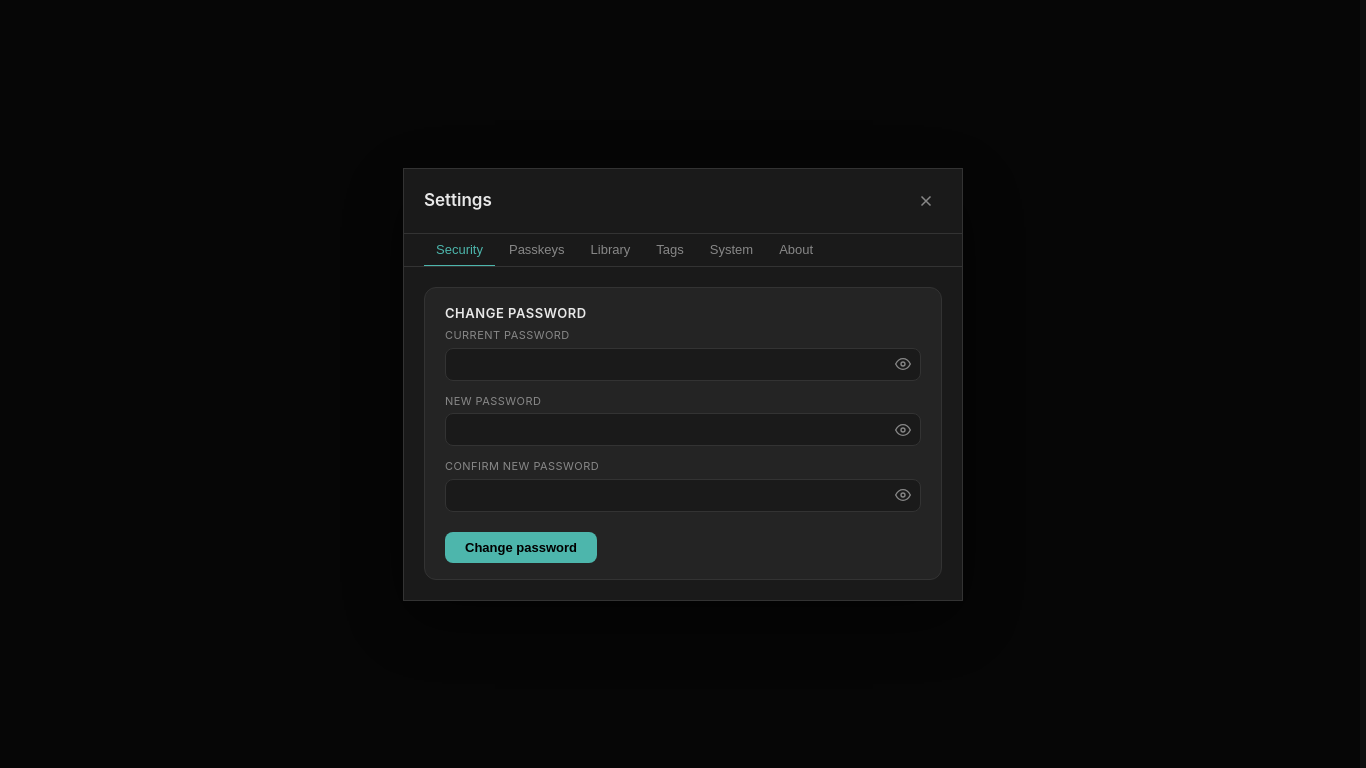
Test: SettingsModal — library tab › renders the sort field and order selects
Click the tab "Library" at (610, 250), box [579,234,642,266]
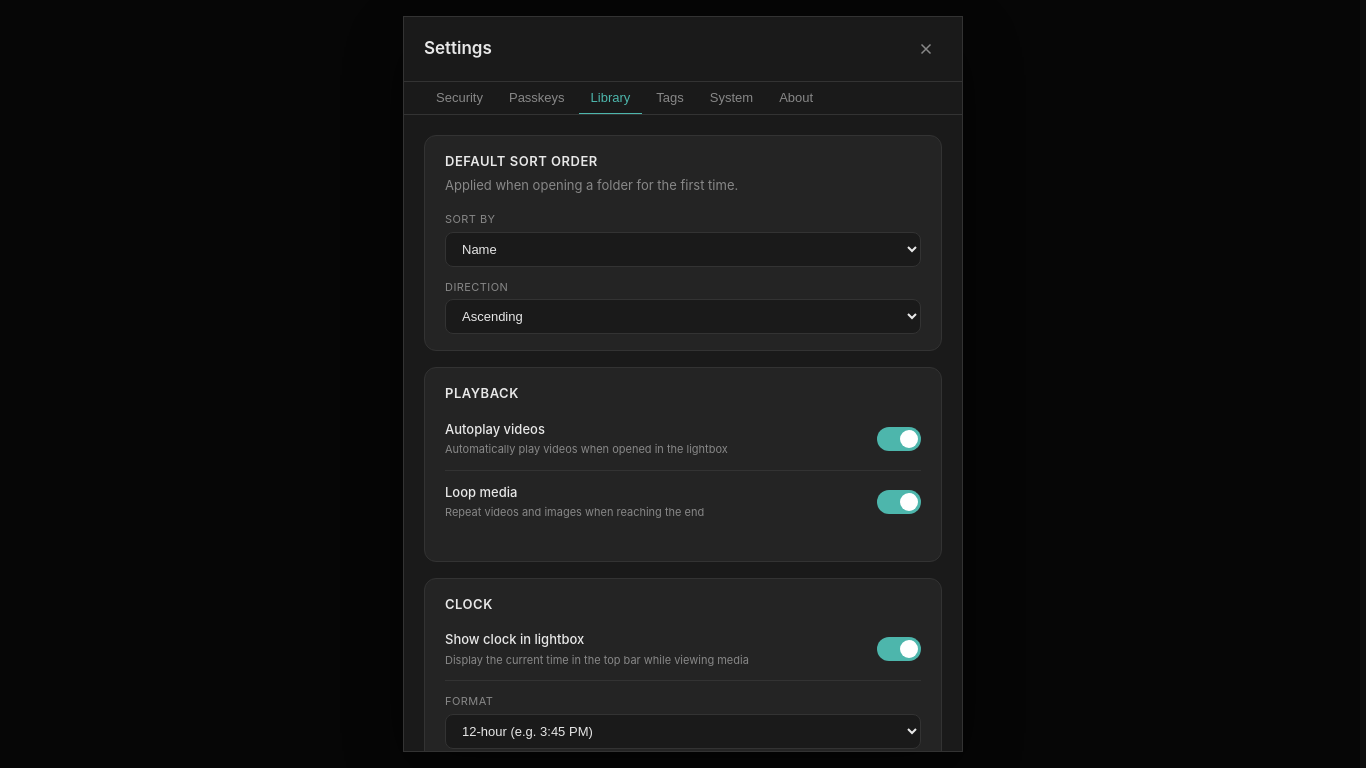
Expected: the dropdown labelled "Sort by" is shown, [445,232,921,266]
Expected: the dropdown labelled "Direction" is shown, [445,299,921,334]
